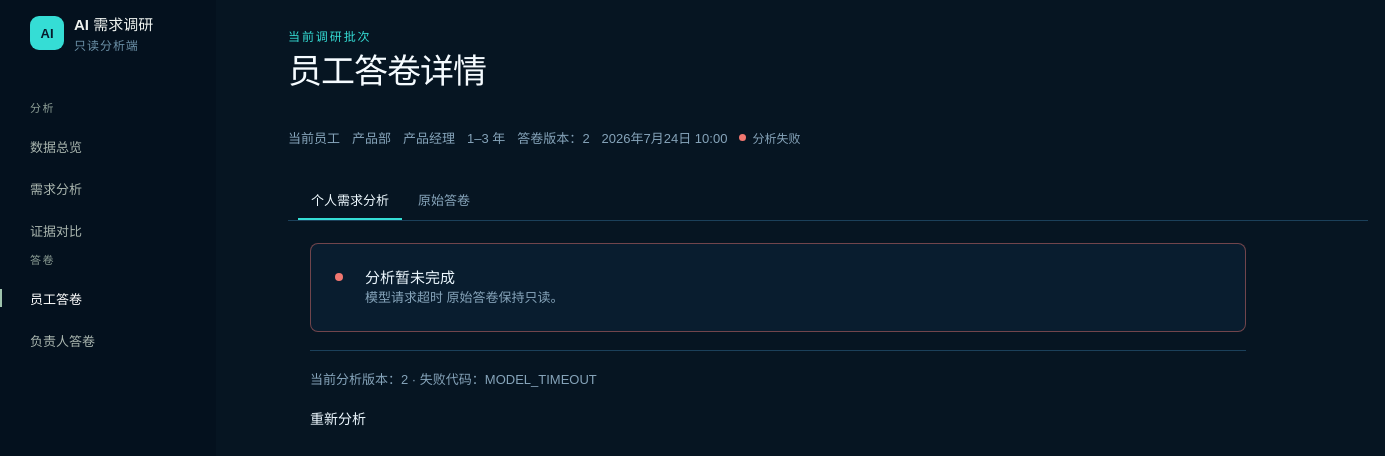
it: 永久 queued 严格限制为 30 次同步请求并展示超时提示
Click the button "重新分析": [338, 418] box [310,396,366,440]
Wait 60000 ms
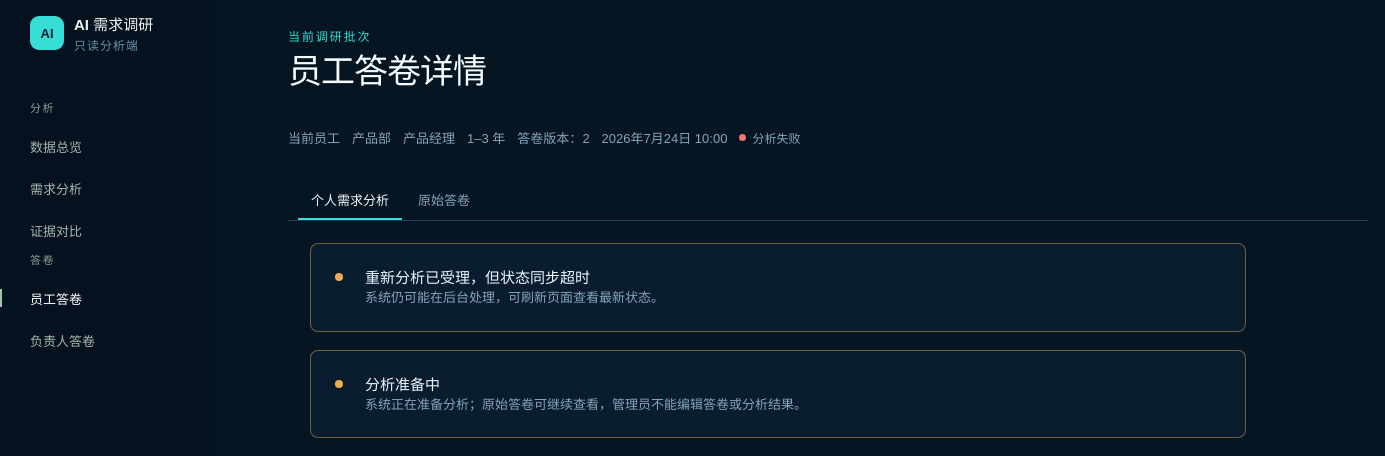
Now the heading "重新分析已受理，但状态同步超时" is shown, box [365,269,590,286]
Now the text "系统仍可能在后台处理，可刷新页面查看最新状态。" is shown, box [365,290,664,305]
